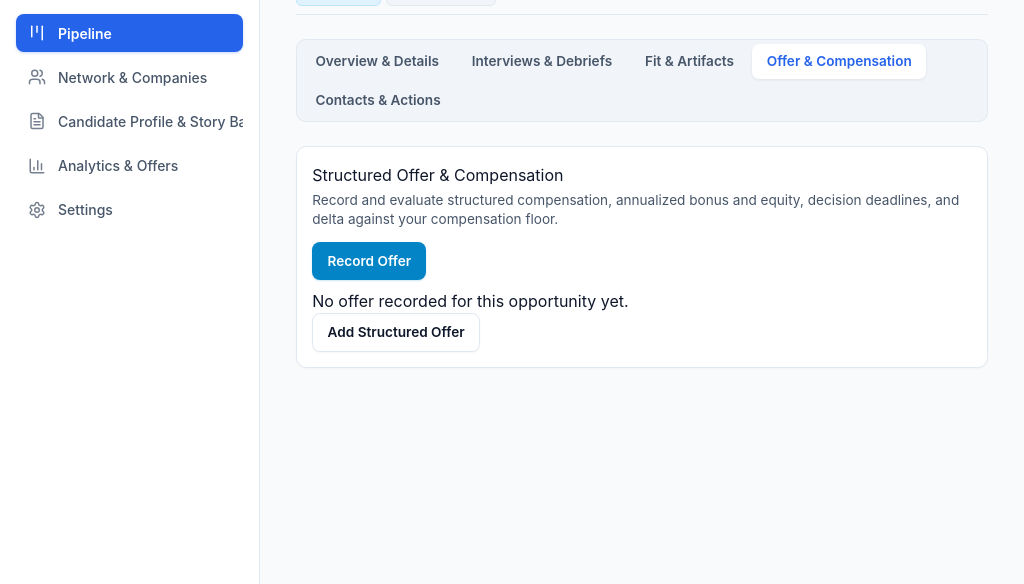
Test: Analytics, Offers & Backup/Seeding Workspace Views › manages structured offer on OpportunityDetailWorkspace
The image size is (1024, 584).
Expected: the heading "Structured Offer & Compensation" is shown, top-left (312, 164), bottom-right (564, 184)
Expected: the text "No offer recorded for this opportunity yet." is shown, top-left (312, 291), bottom-right (629, 311)
# Click Record Offer
Click the button "Record Offer" at (369, 261), box top-left (312, 242), bottom-right (426, 280)
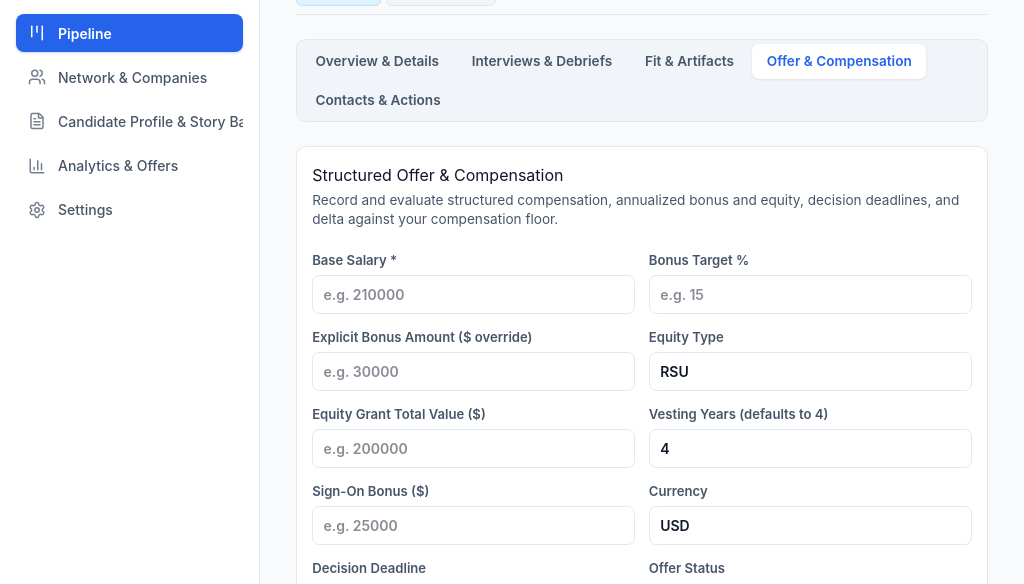
# Fill form
Type "200000" into the number field labelled "Base Salary" at (474, 295), box top-left (312, 275), bottom-right (635, 314)
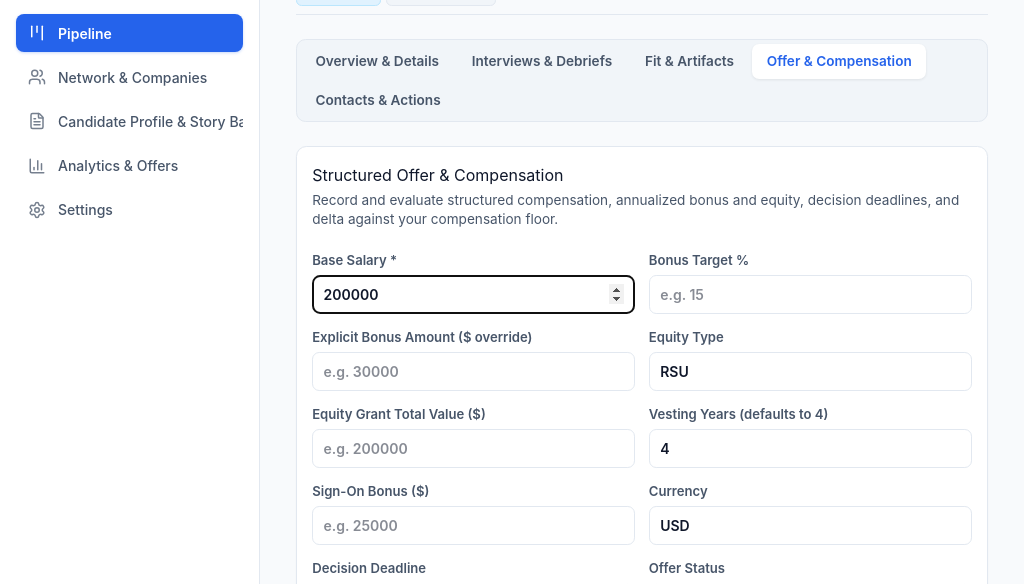
Type "15" into the number field named "Bonus Target Percentage" at (810, 295), box top-left (649, 275), bottom-right (972, 314)
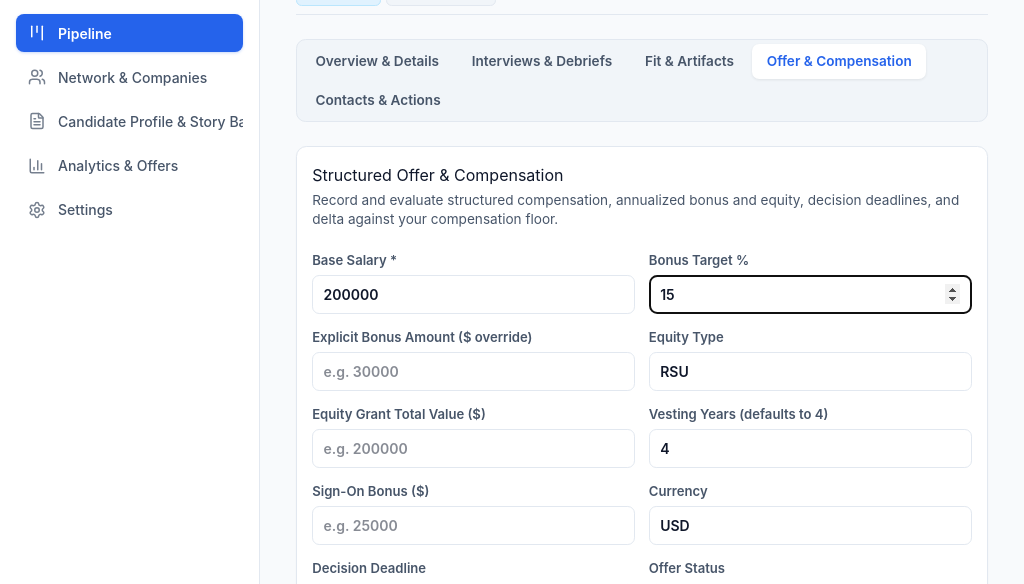
Type "160000" into the number field named "Equity Total Value" at (474, 449), box top-left (312, 429), bottom-right (635, 468)
(page scrolled)
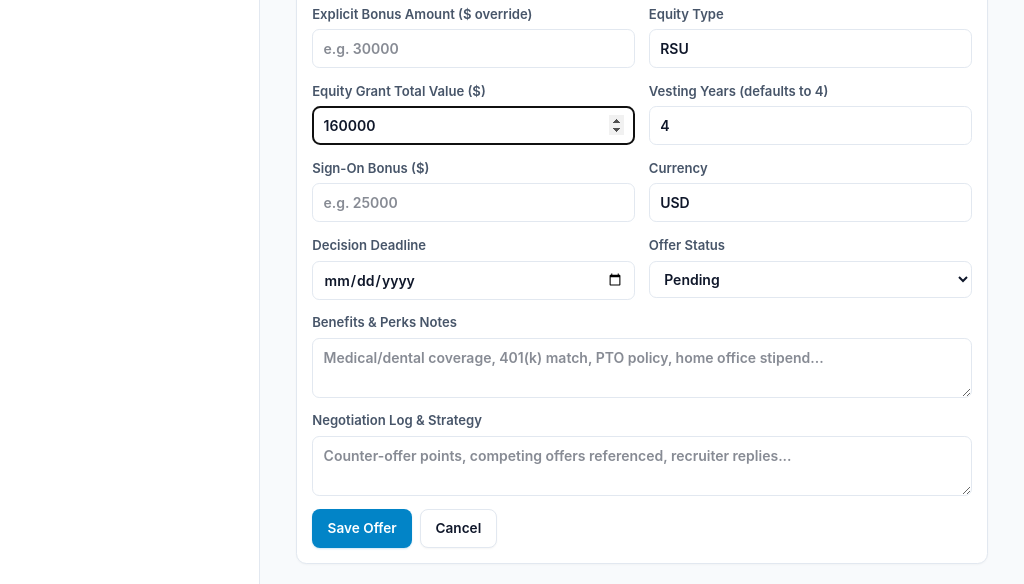
Click the button "Save Offer" at (362, 528), box top-left (312, 509), bottom-right (412, 548)
(page scrolled)
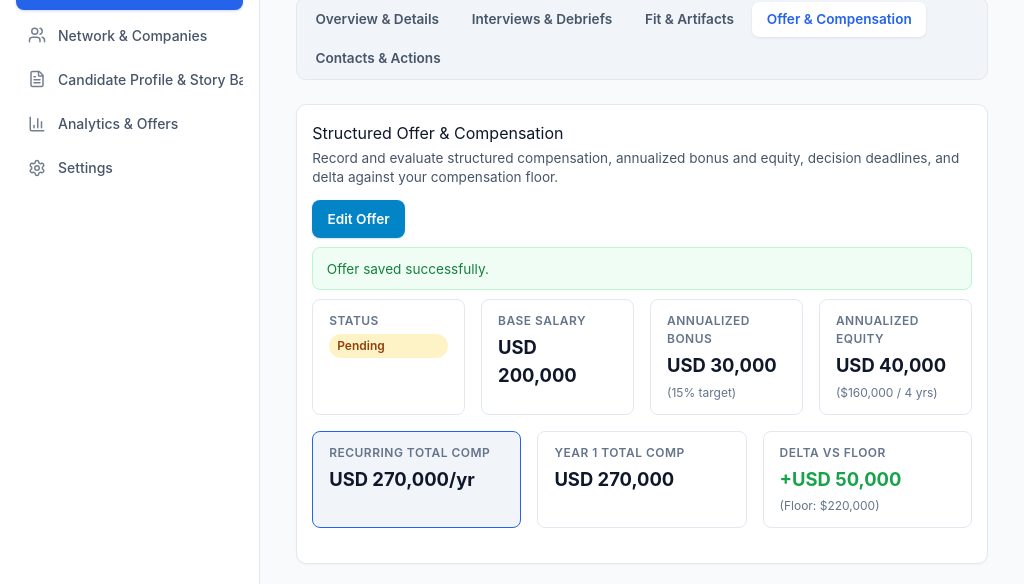
Expected: the text "Offer saved successfully." is shown, top-left (312, 247), bottom-right (972, 290)
Expected: the text "USD 270,000/yr" is shown, top-left (329, 468), bottom-right (475, 490)
